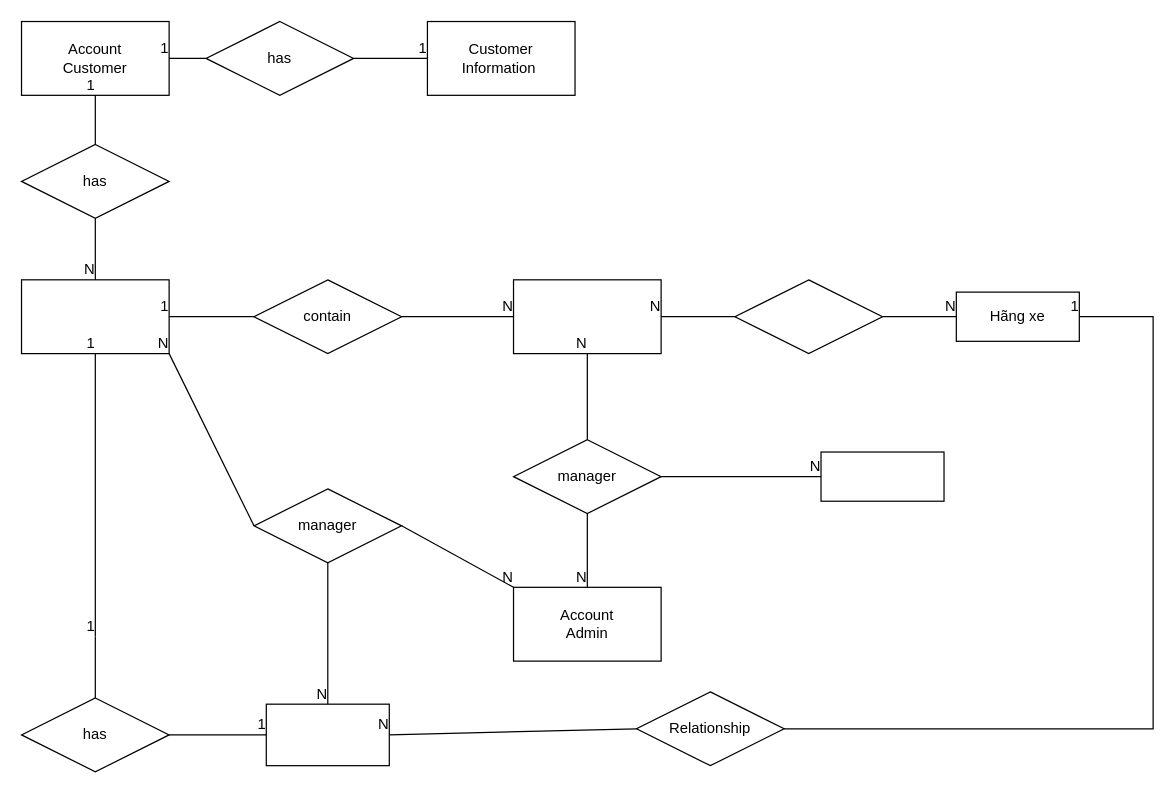
Image size: 1176x793. Some labels were removed from this diagram. Each missing label, with the centre of its shape:
Bảo trì: [327,734]
Cart: [94,316]
cung cấp: [808,316]
News: [882,476]
Product Information: [586,316]
